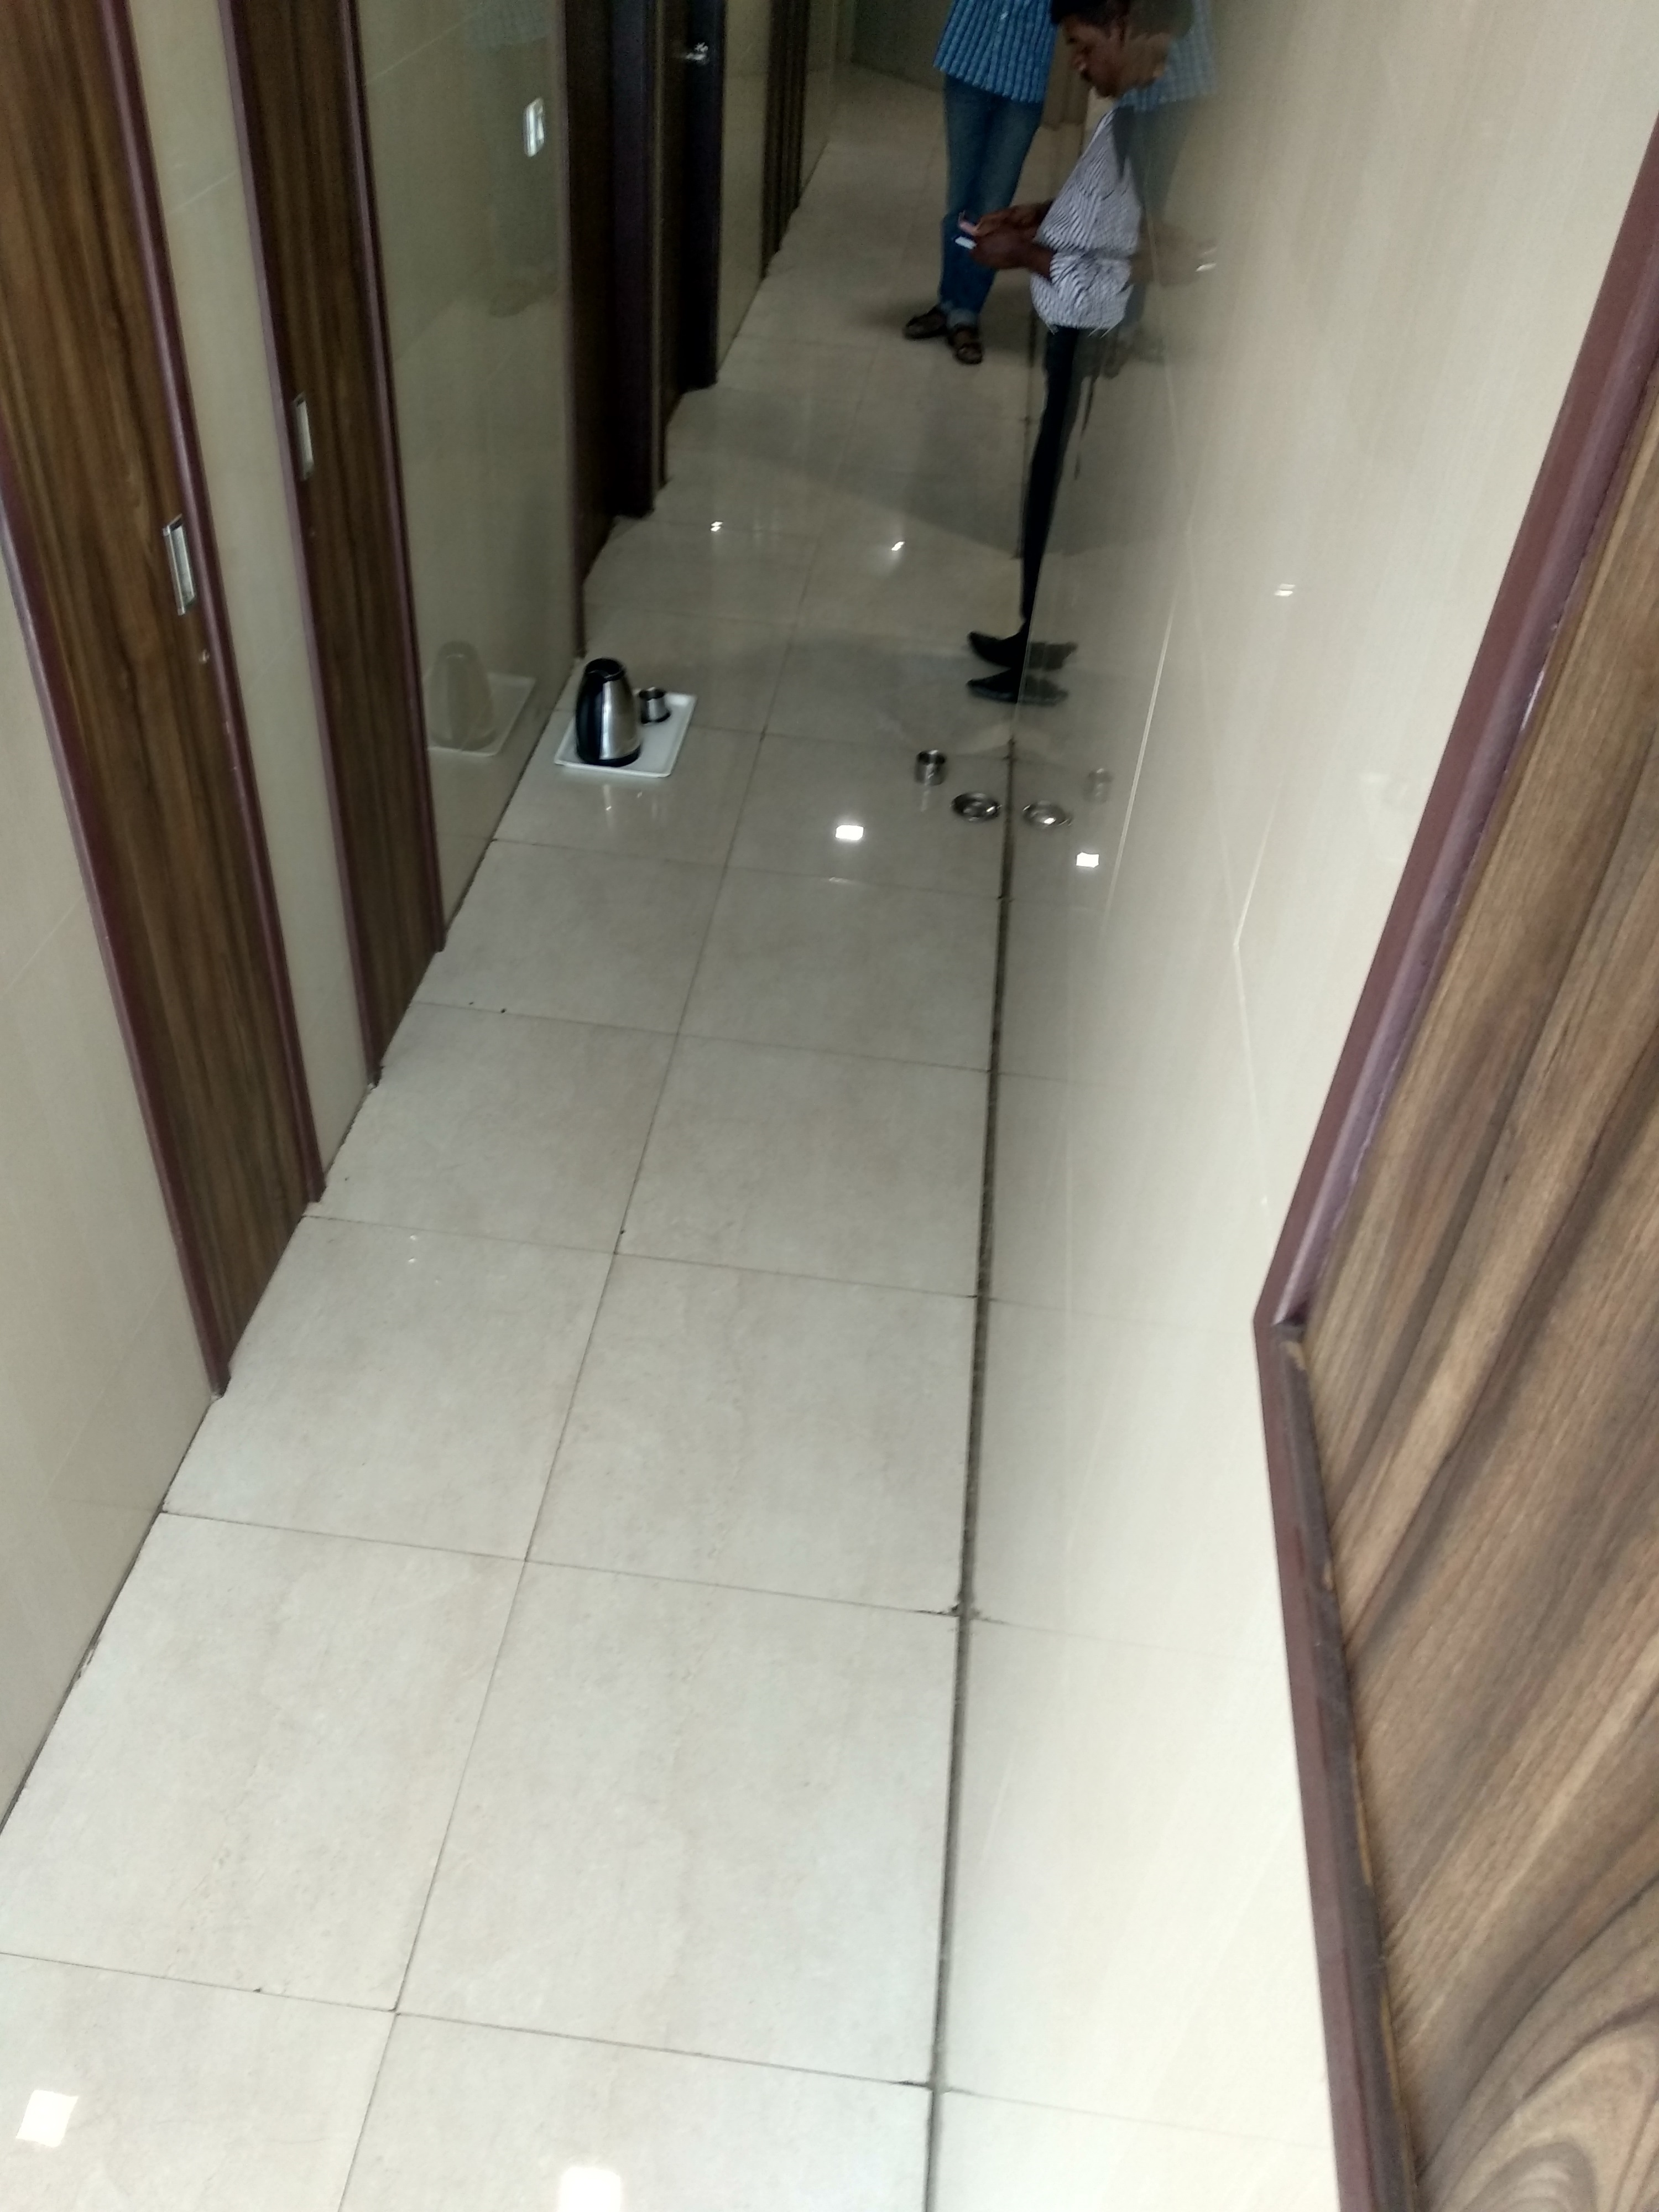CUP: (917, 754, 951, 789), (643, 691, 673, 726)
FLASK: (579, 665, 638, 758)
